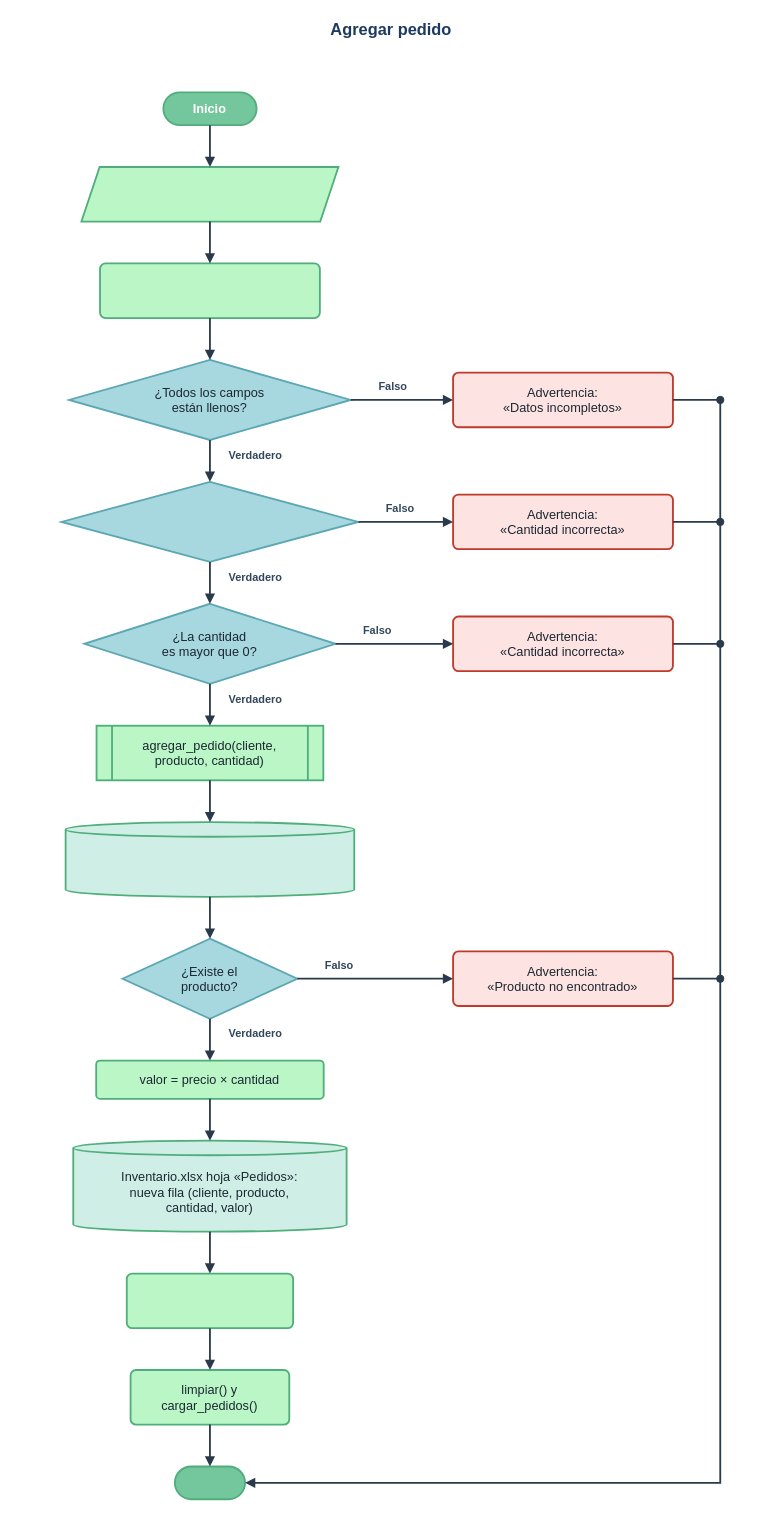
The diagram is 781 pixels wide and 1515 high, and some of its shapes have lost their labels. Each missing label, with the box of its shape:
Fin: (173, 1465, 246, 1500)
Ingresar cliente, producto y cantidad: (80, 166, 339, 222)
Inventario.xlsx hoja «Productos»: buscar el precio del producto: (64, 821, 355, 897)
Leer los campos y quitar espacios (strip): (99, 262, 320, 318)
Mostrar mensaje «Pedido agregado»: (125, 1272, 294, 1329)
¿La cantidad es un número entero?: (60, 480, 359, 562)
